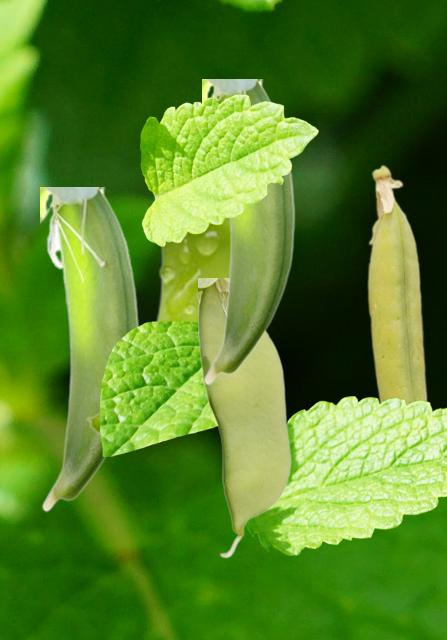pea: (85, 194, 228, 433), (40, 187, 141, 511), (202, 79, 297, 384), (198, 278, 290, 557), (367, 164, 427, 402)
